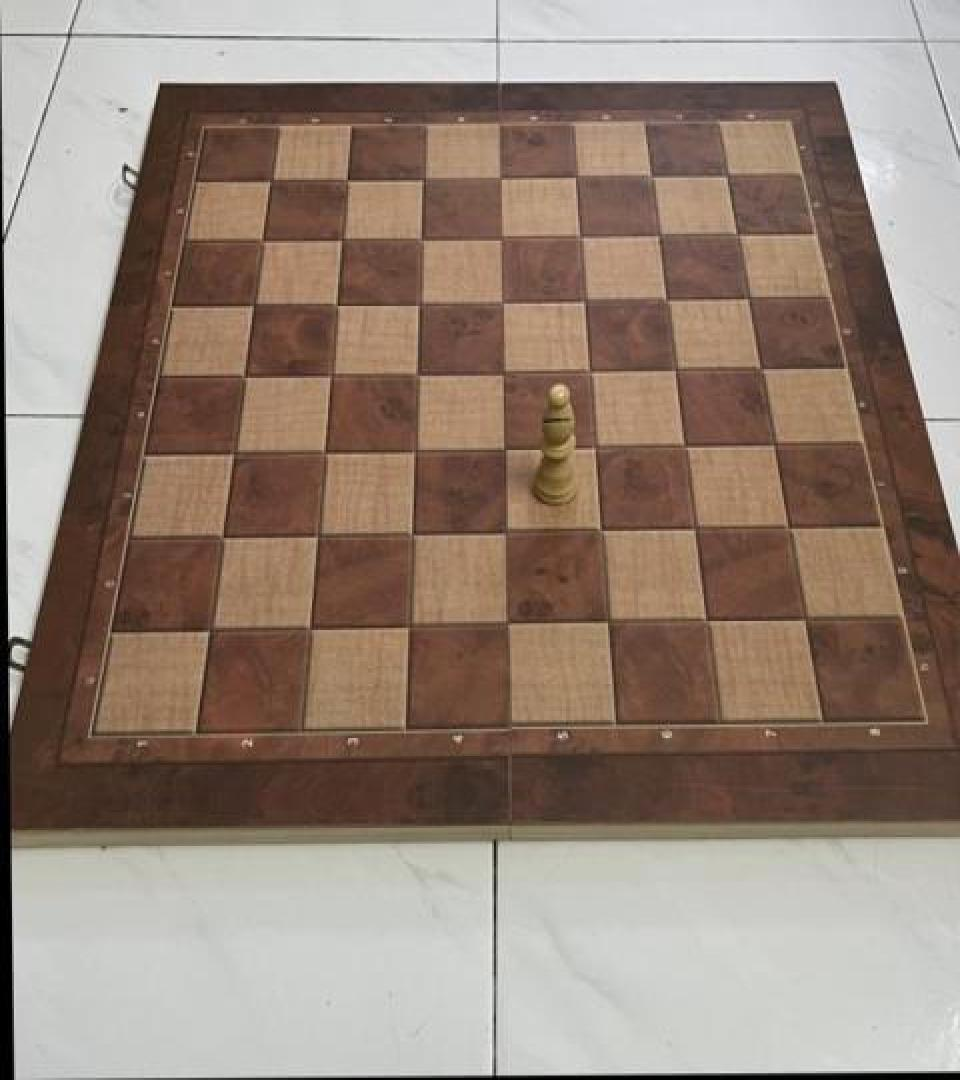xcorner: (708, 155, 744, 196), (632, 155, 668, 196), (557, 156, 593, 197), (481, 156, 517, 197), (324, 217, 360, 258), (244, 218, 280, 259), (483, 280, 519, 321), (401, 280, 437, 321), (318, 281, 354, 322), (235, 282, 271, 323), (225, 352, 261, 393), (666, 424, 702, 465), (576, 425, 612, 466), (486, 426, 522, 467), (771, 507, 807, 548), (203, 514, 239, 555), (390, 604, 426, 645), (290, 606, 326, 647), (405, 158, 441, 198), (329, 158, 365, 198), (253, 159, 289, 199), (718, 214, 754, 254), (640, 215, 676, 255), (561, 215, 597, 255), (482, 216, 518, 256), (403, 216, 439, 256), (730, 278, 766, 318), (648, 278, 684, 318), (566, 279, 602, 319), (742, 347, 778, 387), (657, 348, 693, 388), (571, 349, 607, 389), (485, 350, 521, 390), (398, 351, 434, 391), (312, 351, 348, 391), (756, 423, 792, 463), (396, 428, 432, 468), (305, 429, 341, 469), (215, 430, 251, 470), (677, 509, 713, 549), (583, 510, 619, 550), (488, 511, 524, 551), (393, 512, 429, 552), (298, 513, 334, 553), (788, 600, 824, 640), (689, 601, 725, 641), (589, 602, 625, 642), (490, 603, 526, 643), (190, 608, 226, 648)
